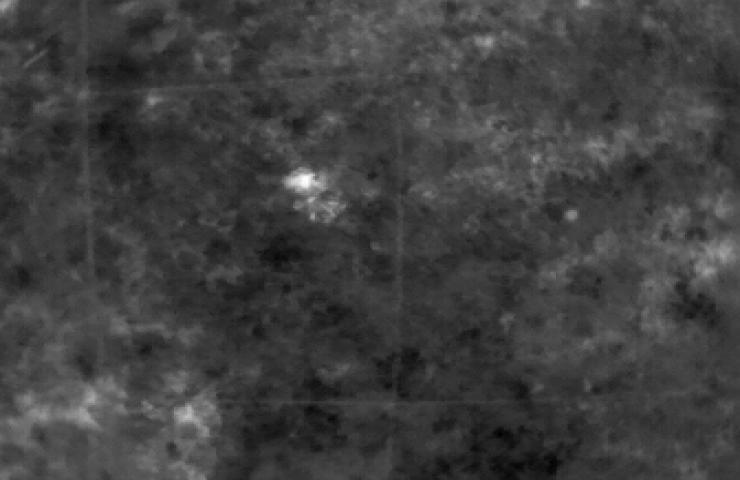landmines: (287, 170, 331, 194)
